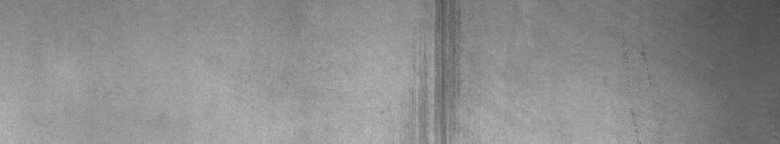ka: (412, 4, 464, 136)
